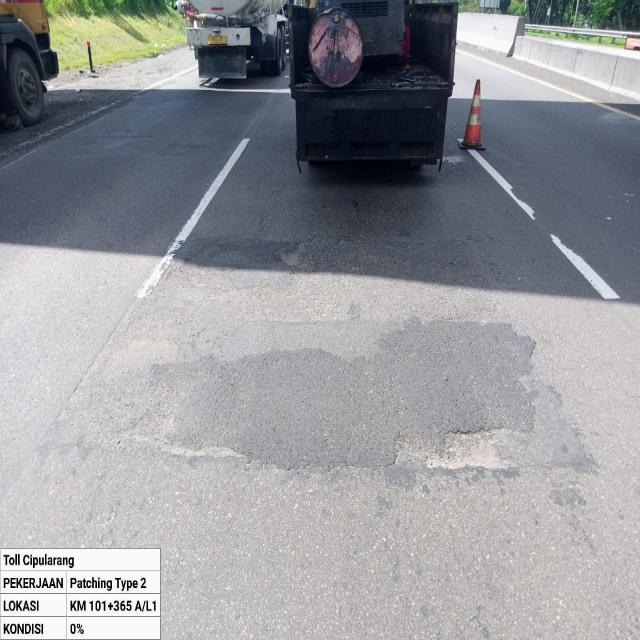Buraco: (383, 423, 523, 474), (267, 237, 322, 274)
